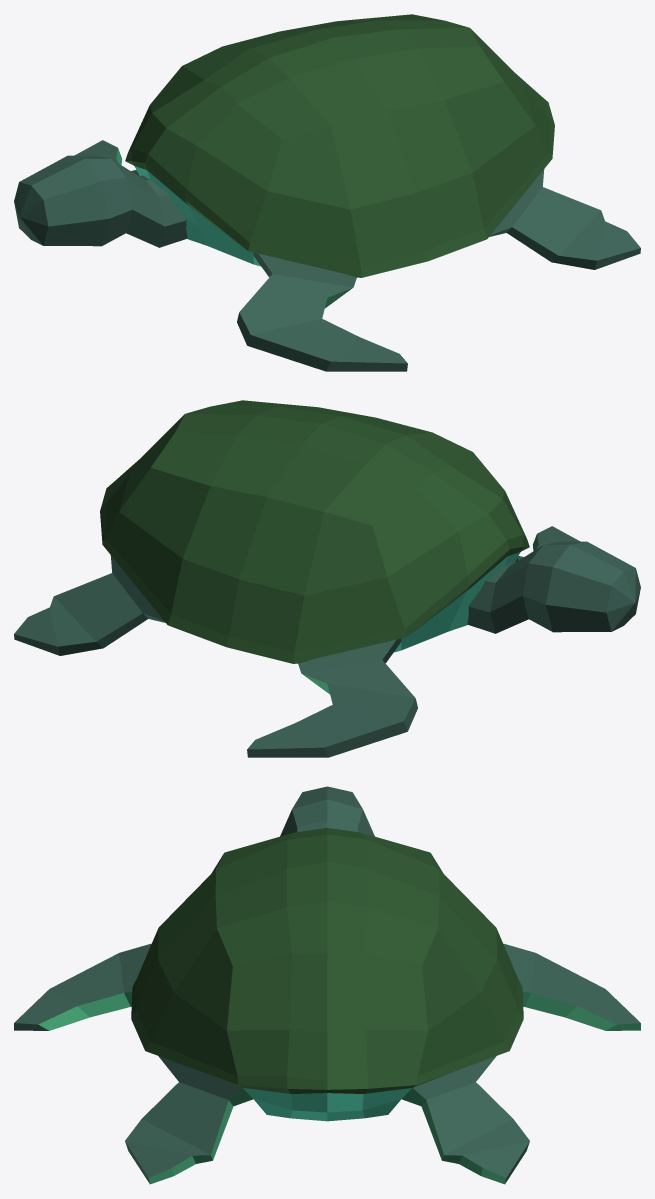
The model's file is Turtle.glb.
3 views of the same model, one above another, from view 1: azimuth 30°, elevation 25°; view 2: azimuth 150°, elevation 25°; view 3: azimuth 270°, elevation 25° (orthographic). The views are drawn at different scales.
Visible parts, largest first — view 1: Turtle; view 2: Turtle; view 3: Turtle.
Boxes of the visible parts, x1,y1,x2,y2 form: Turtle: (14,14,640,371); Turtle: (14,400,640,757); Turtle: (14,786,640,1184).
Size of the model in its own units: 1.41 by 0.5209 by 1.4.
